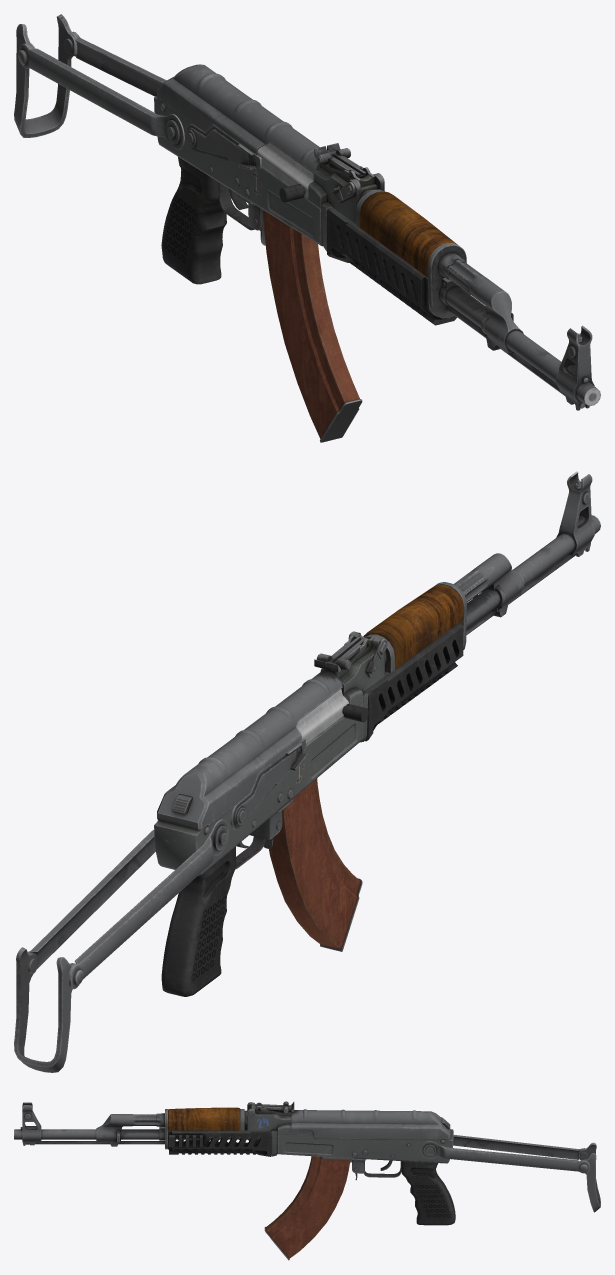
File: ak_tactical.glb
3 renders of one model, top to bottom at view 1: azimuth 30°, elevation 25°; view 2: azimuth 150°, elevation 25°; view 3: azimuth 270°, elevation 25°, orthographic. The views are drawn at different scales.
Parts seen in each view (by area): view 1: ak body, magazine, stock arms, stock, fireing selector, bolt carrier; view 2: ak body, magazine, stock arms, stock, fireing selector, bolt carrier; view 3: ak body, magazine, stock arms, stock.
Part boxes in pixels (box(x1,y1,x2,y2)): ak body: box(154, 64, 600, 410); magazine: box(262, 210, 362, 442); stock arms: box(18, 31, 184, 149); stock: box(14, 14, 77, 137); fireing selector: box(186, 124, 261, 169); bolt carrier: box(257, 143, 313, 202); ak body: box(154, 471, 600, 996); magazine: box(269, 778, 362, 951); stock arms: box(27, 819, 228, 989); stock: box(14, 947, 74, 1072); fireing selector: box(230, 738, 307, 829); bolt carrier: box(296, 689, 368, 743); ak body: box(14, 1101, 455, 1225); magazine: box(264, 1156, 351, 1260); stock arms: box(420, 1135, 590, 1173); stock: box(579, 1142, 600, 1212).
Size of the model in its own units: 0.1381 by 0.5337 by 1.84.
1 material, 1 textured.
